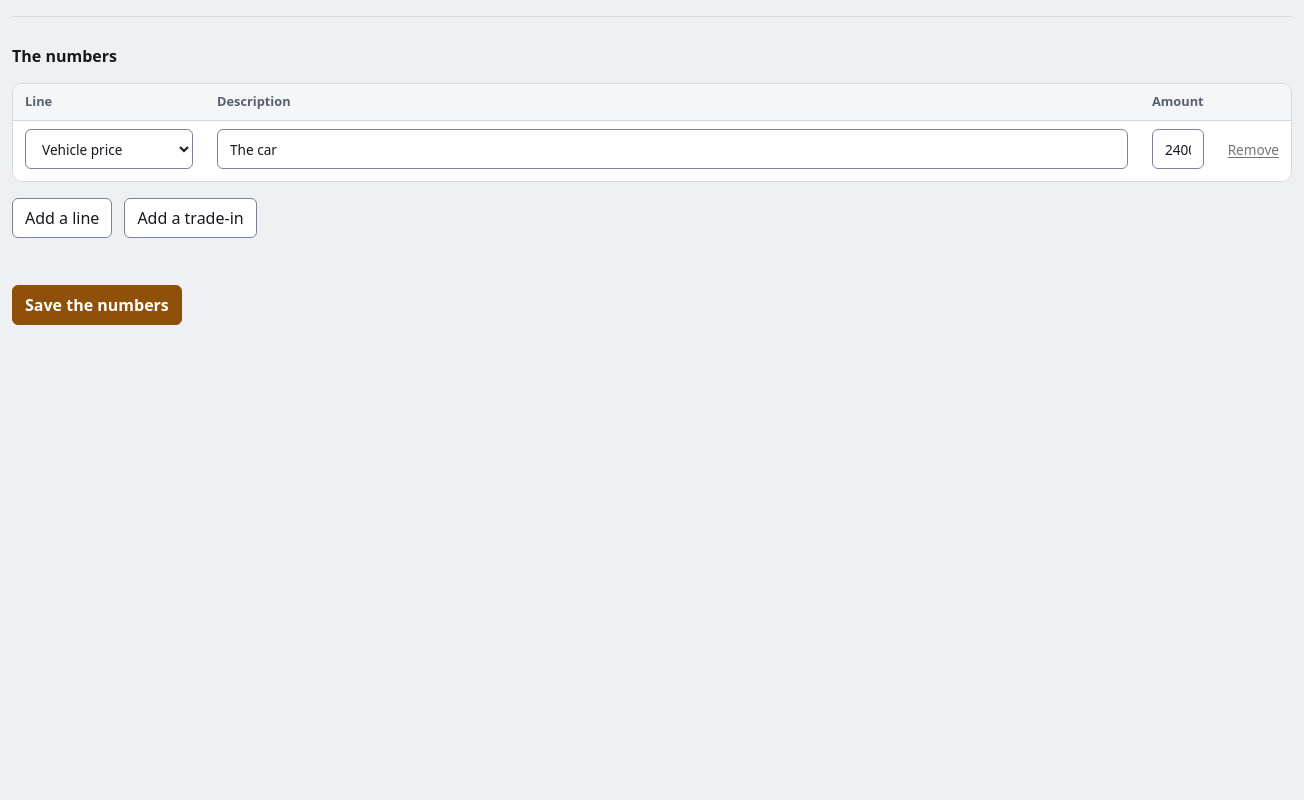
Scenario: entering the numbers › warns while typing when a trade-in is worth less than is owed
Click the button "Add a trade-in" at (191, 218), box [124,198,257,238]
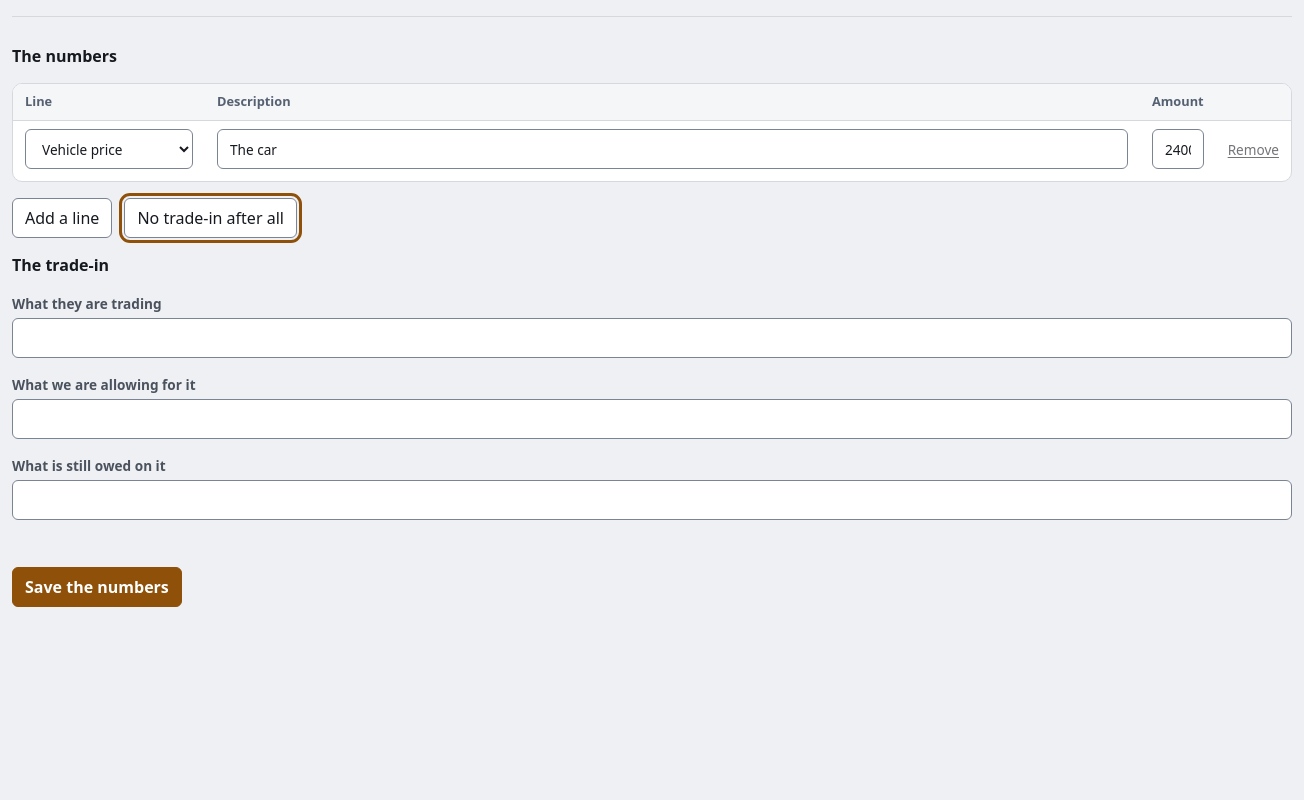
Type "4000" into the field labelled "What we are allowing for it" at (652, 419), box [12,399,1292,439]
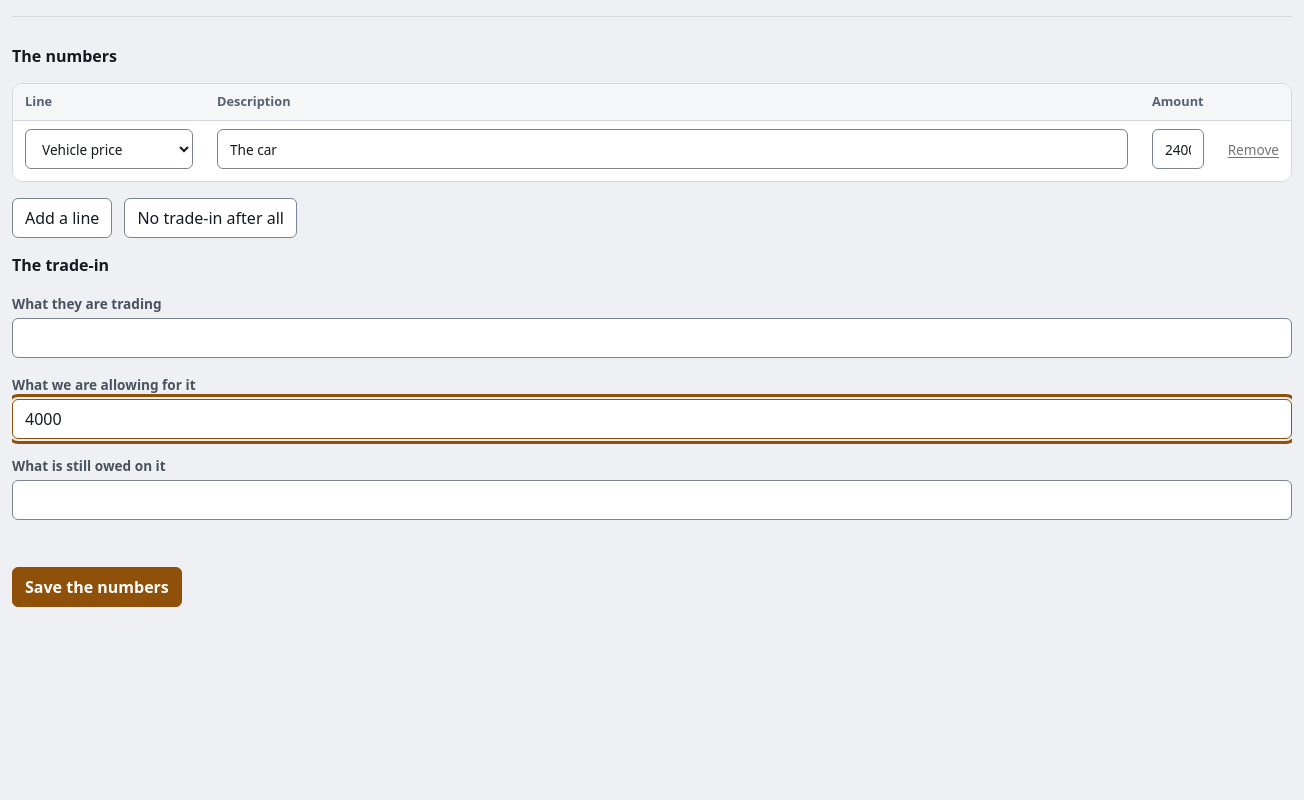
Type "6500" into the field labelled "What is still owed on it" at (652, 500), box [12,480,1292,520]
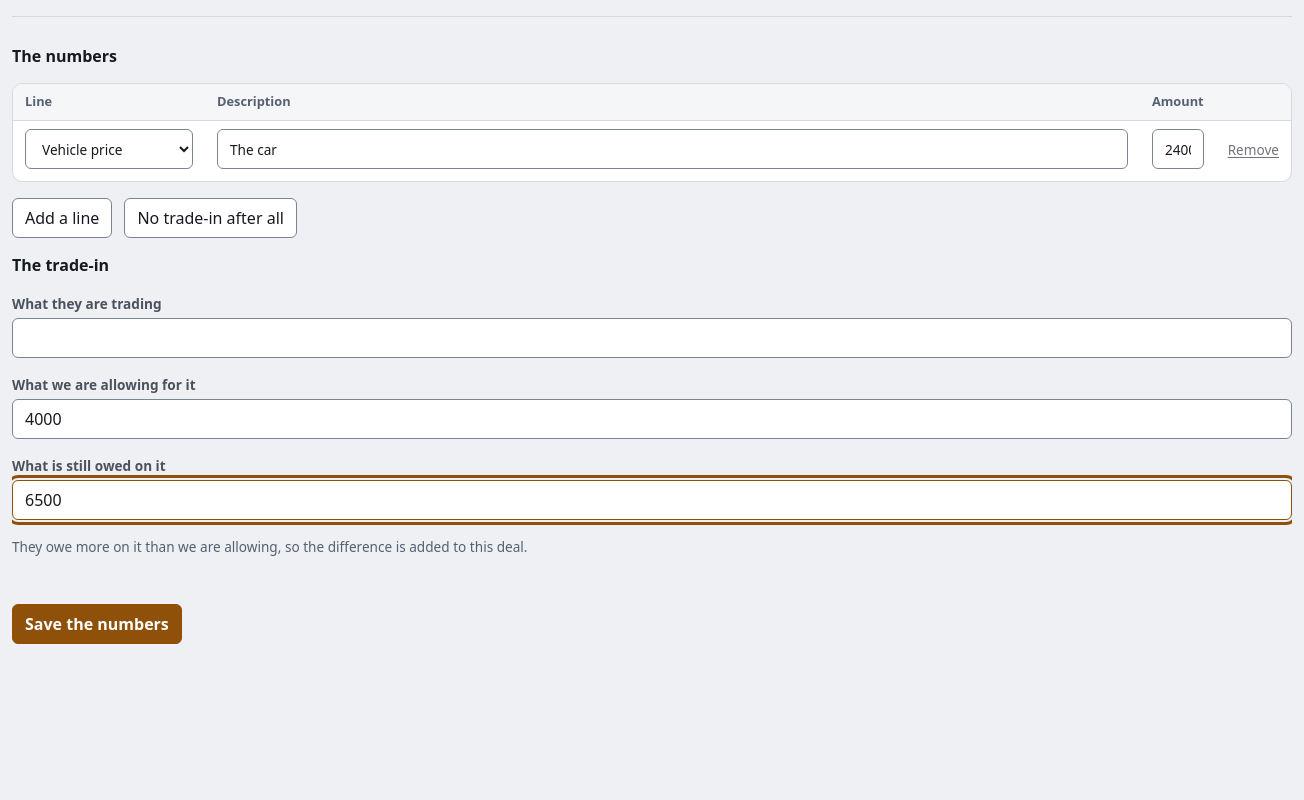
Check: the text "owe more on it than we are allowing" is shown, box [12,537,528,556]
